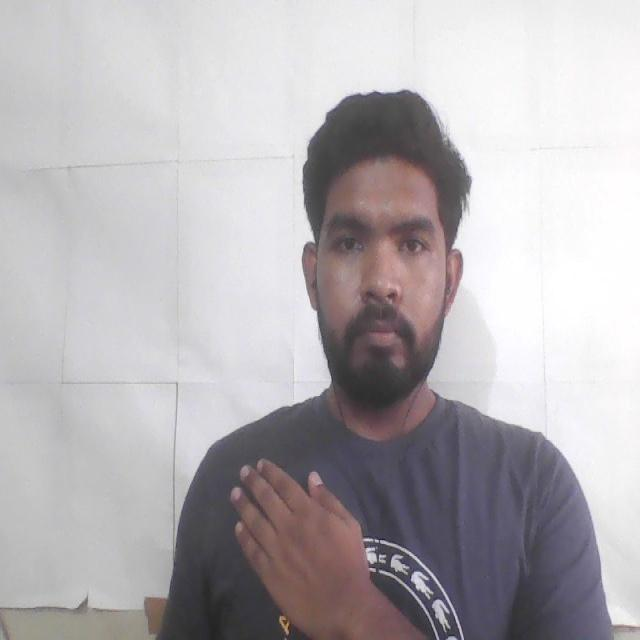Please: (225, 437, 462, 640)
